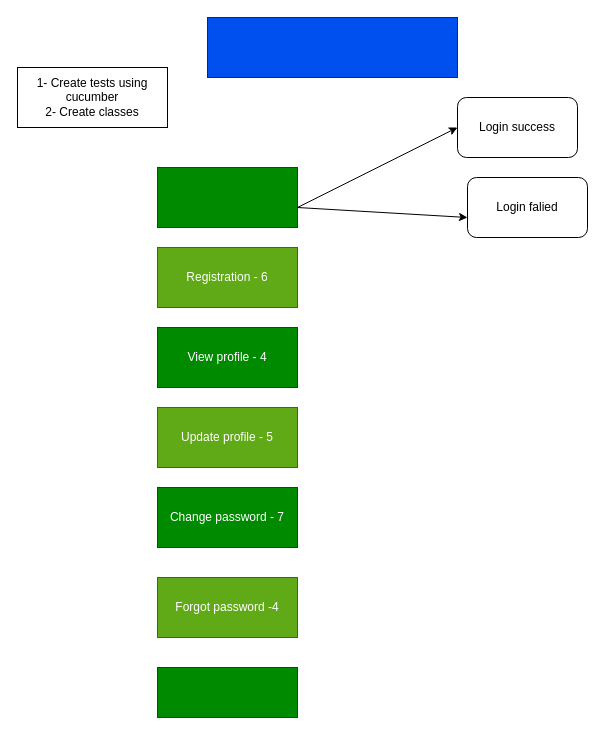
Some shapes in this 605 by 735 pixel diagram are drawn without their labels. Here are the shapes that lost their labels. From the top down, the centre of each, then its label:
At point 332,47: "User Acceptance Test".
At point 227,197: "Login - 5".
At point 227,692: "Welcome Page -4".
